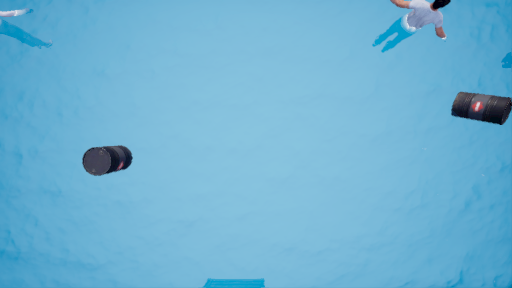person: (385, 3, 455, 63)
